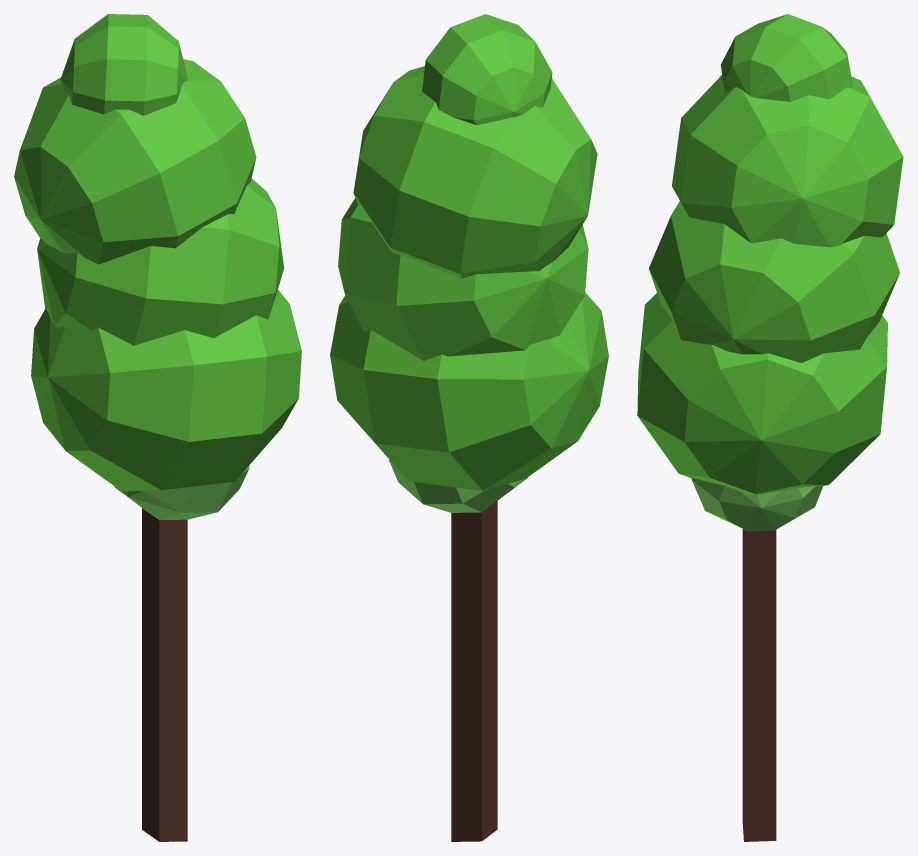
File: tree_2_2.dae
The picture shows the model from 3 angles, left to right: view 1: azimuth 30°, elevation 25°; view 2: azimuth 150°, elevation 25°; view 3: azimuth 270°, elevation 25°; orthographic projection. The views are drawn at different scales.
Visible parts, largest first — view 1: tree_2_2; view 2: tree_2_2; view 3: tree_2_2.
Part boxes in pixels (left/top/right/bottom): tree_2_2: left=14, top=14, right=301, bottom=841; tree_2_2: left=330, top=14, right=608, bottom=841; tree_2_2: left=637, top=14, right=903, bottom=841.
Size of the model in its own units: 1.12 by 1.1 by 3.65.
1 material, 1 textured.
